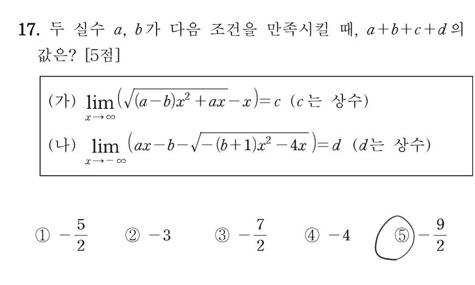1: (374, 215, 417, 263)
paper: (391, 226, 411, 245), (302, 225, 322, 244), (211, 225, 231, 244), (123, 225, 143, 244), (32, 225, 52, 244)
